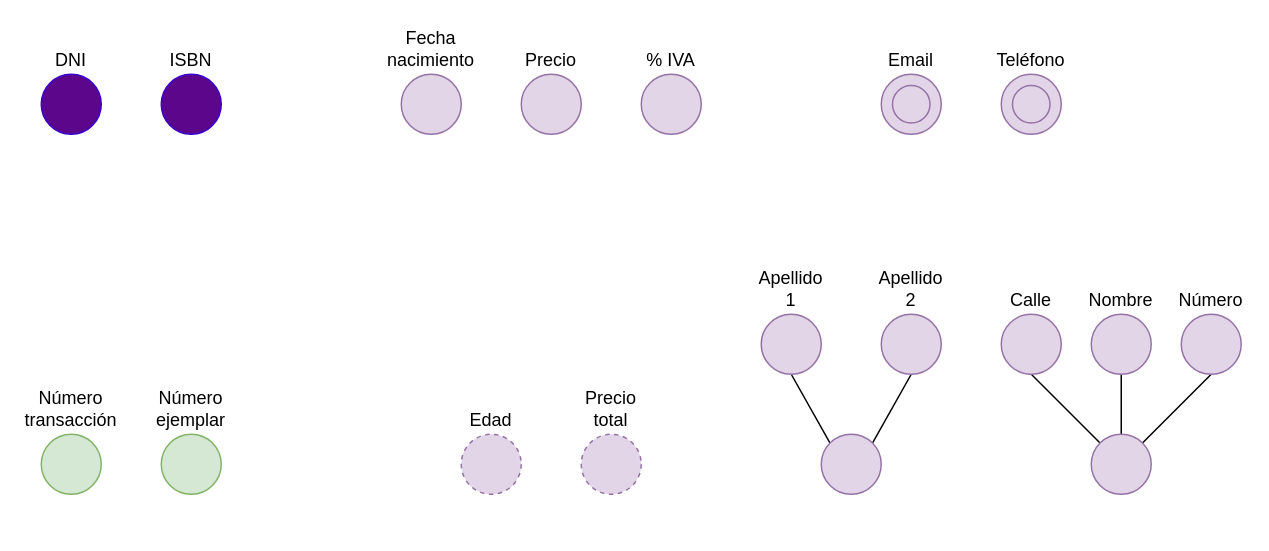
Some shapes in this 1269 by 551 pixel diagram are drawn without their labels. The shapes that lost their labels are listed below. From the top down, each one's centre as x and y in pixels, then its label:
At (x=850, y=463): "Apellidos".
At (x=1120, y=463): "Dirección".
